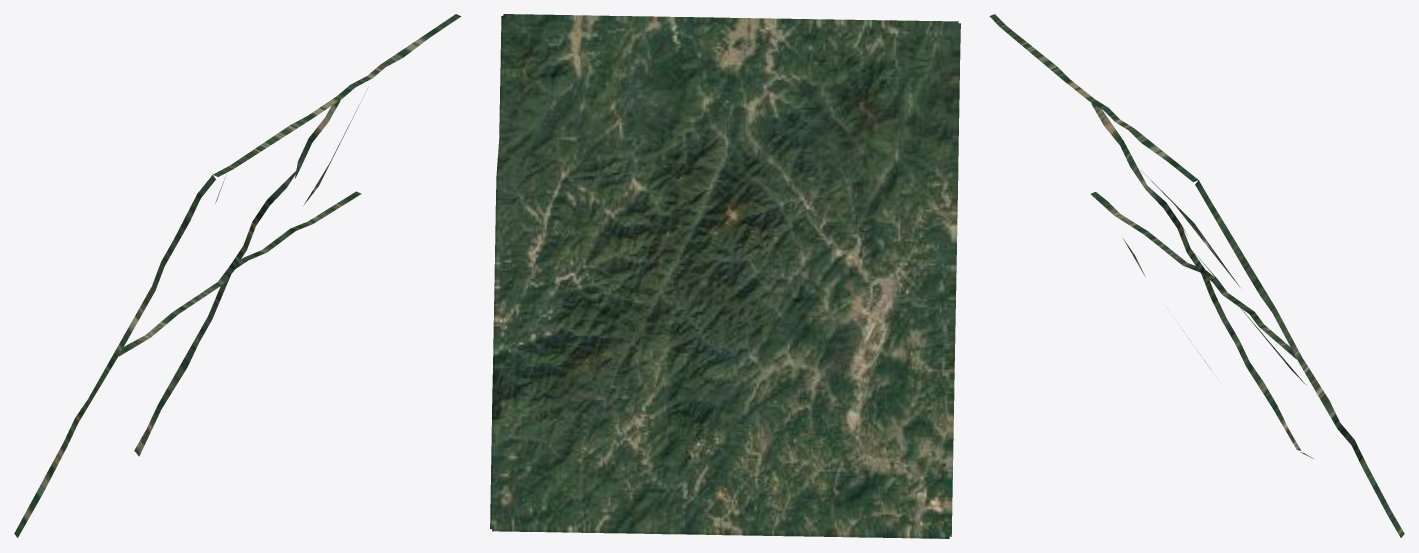
The picture shows the model from 3 angles, left to right: view 1: azimuth 30°, elevation 25°; view 2: azimuth 150°, elevation 25°; view 3: azimuth 270°, elevation 25°; orthographic projection. The views are drawn at different scales.
Size of the model in its own units: 78940 by 70265 by 65397.
1 material, 1 textured.
